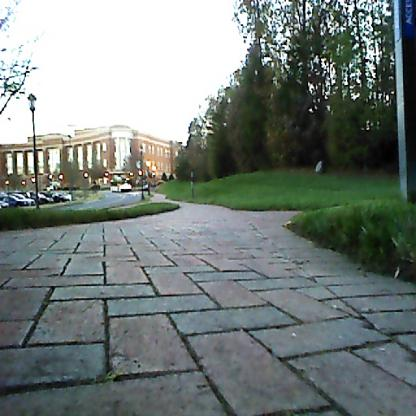Edge: (279, 219, 416, 316)
Sidewalk: (0, 204, 416, 416)
